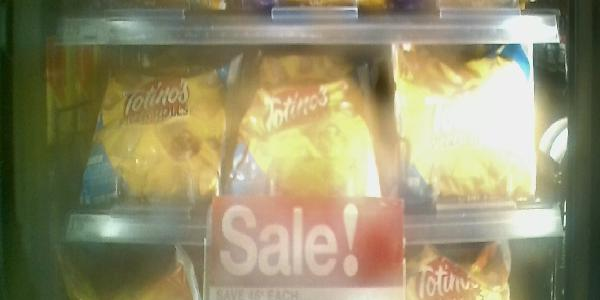icecream: (224, 49, 396, 236), (390, 44, 544, 215), (78, 62, 225, 221)
